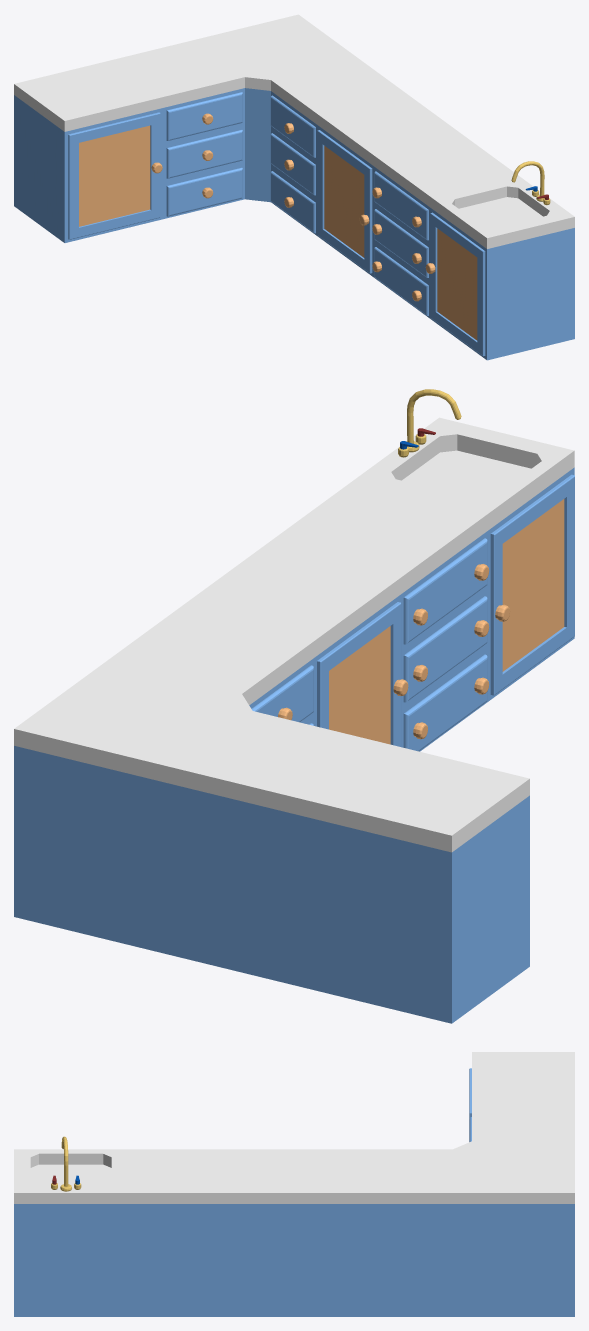
The model's file is Kitchen_5.fbx.
3 renders of one model, top to bottom at view 1: azimuth 30°, elevation 25°; view 2: azimuth 150°, elevation 25°; view 3: azimuth 270°, elevation 25°, orthographic. The views are drawn at different scales.
Visible parts, largest first — view 1: Kitchen_5, Kitchen_5 Door_12, Kitchen_5 Door_1, Kitchen_5 Door_5, Kitchen_5 Door_10, Kitchen_5 Door_9, Kitchen_5 Door_11, Kitchen_5 Door_4, Kitchen_5 Door_2, Kitchen_5 Door_3, Kitchen_5 Door_6, Kitchen_5 Door_7 (+2 smaller); view 2: Kitchen_5, Kitchen_5 Door_1, Kitchen_5 Door_5, Kitchen_5 Door_2, Kitchen_5 Door_3, Kitchen_5 Door_4, Kitchen_5 Door_6, Kitchen_5 Sink; view 3: Kitchen_5, Kitchen_5 Sink.
Boxes of the visible parts, left/top/right/bottom form: Kitchen_5: left=14, top=14, right=574, bottom=360; Kitchen_5 Door_12: left=68, top=112, right=162, bottom=239; Kitchen_5 Door_1: left=425, top=212, right=485, bottom=356; Kitchen_5 Door_5: left=317, top=130, right=372, bottom=273; Kitchen_5 Door_10: left=166, top=130, right=242, bottom=178; Kitchen_5 Door_9: left=166, top=92, right=242, bottom=140; Kitchen_5 Door_11: left=166, top=167, right=242, bottom=216; Kitchen_5 Door_4: left=372, top=247, right=428, bottom=315; Kitchen_5 Door_2: left=372, top=171, right=428, bottom=240; Kitchen_5 Door_3: left=372, top=209, right=428, bottom=277; Kitchen_5 Door_6: left=270, top=95, right=315, bottom=157; Kitchen_5 Door_7: left=270, top=133, right=315, bottom=195; Kitchen_5: left=14, top=417, right=574, bottom=1023; Kitchen_5 Door_1: left=490, top=474, right=574, bottom=695; Kitchen_5 Door_5: left=317, top=602, right=408, bottom=746; Kitchen_5 Door_2: left=403, top=538, right=489, bottom=644; Kitchen_5 Door_3: left=403, top=596, right=489, bottom=702; Kitchen_5 Door_4: left=403, top=654, right=489, bottom=751; Kitchen_5 Door_6: left=251, top=665, right=313, bottom=722; Kitchen_5 Sink: left=398, top=389, right=461, bottom=457; Kitchen_5: left=14, top=1052, right=574, bottom=1316; Kitchen_5 Sink: left=51, top=1136, right=81, bottom=1191.
Bounding box in the file's own units: 2.08 × 1.15 × 3.5.
